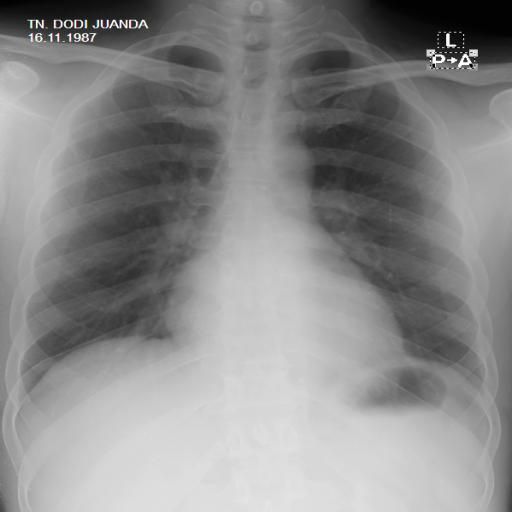kardiomegali: (6, 29, 502, 414)
